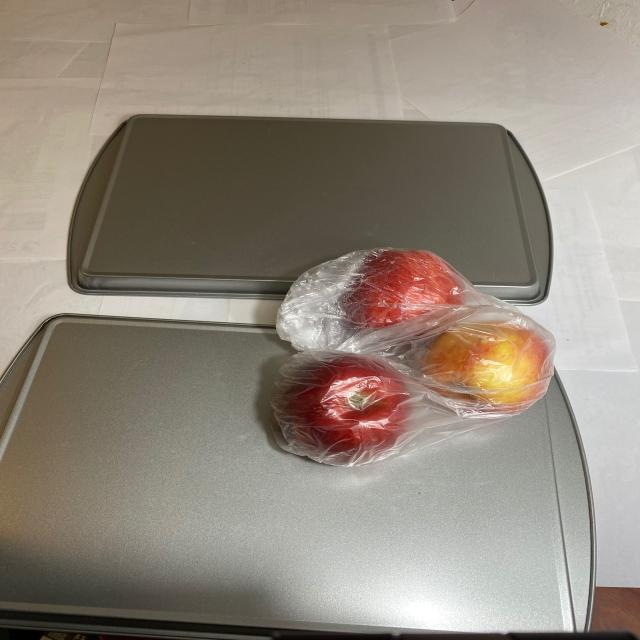apple: (271, 243, 554, 463)
